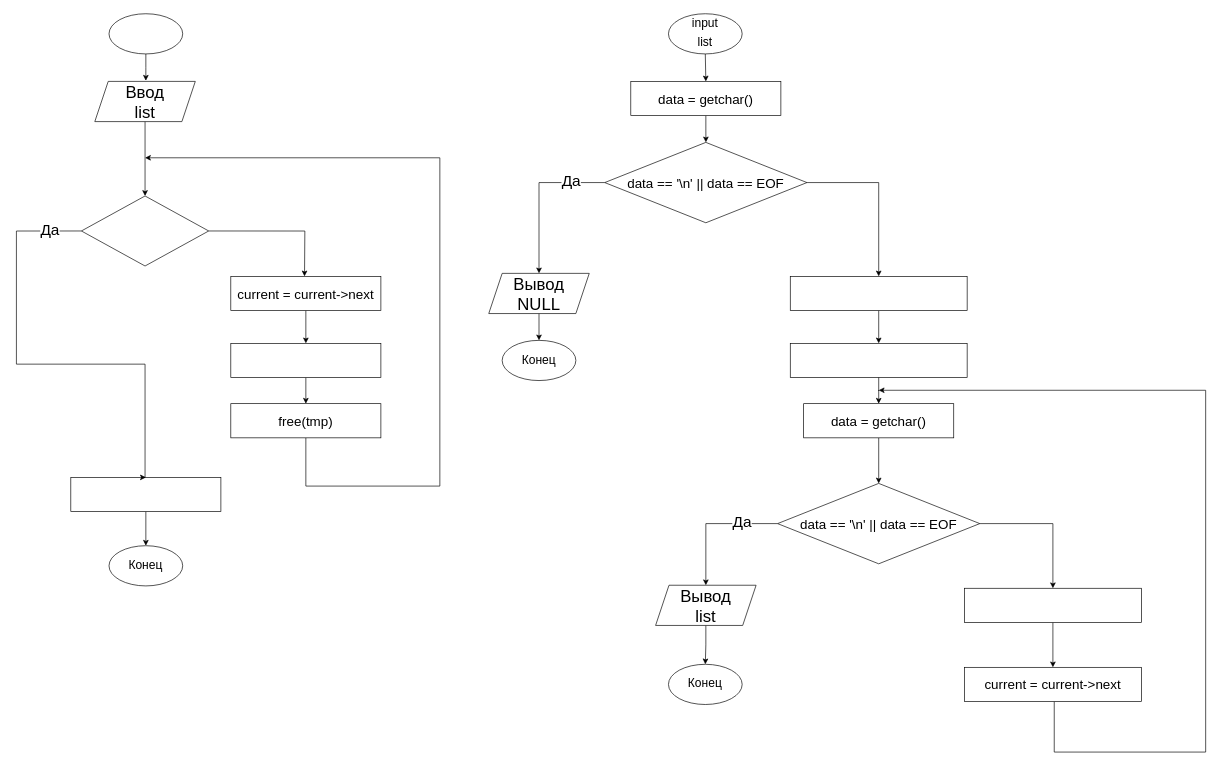
The diagram is 1223 pixels wide and 769 high, and some of its shapes have lost their labels. The centre of each missing label's shape, as x and y in pixels:
current = list->head: the point at 878,360
free list: the point at 145,33
free(list): the point at 145,494
head = head->next: the point at 305,360
head == NULL: the point at 145,230
insertAfter(current, data): the point at 1052,605
list = createList(data, NULL): the point at 878,293
